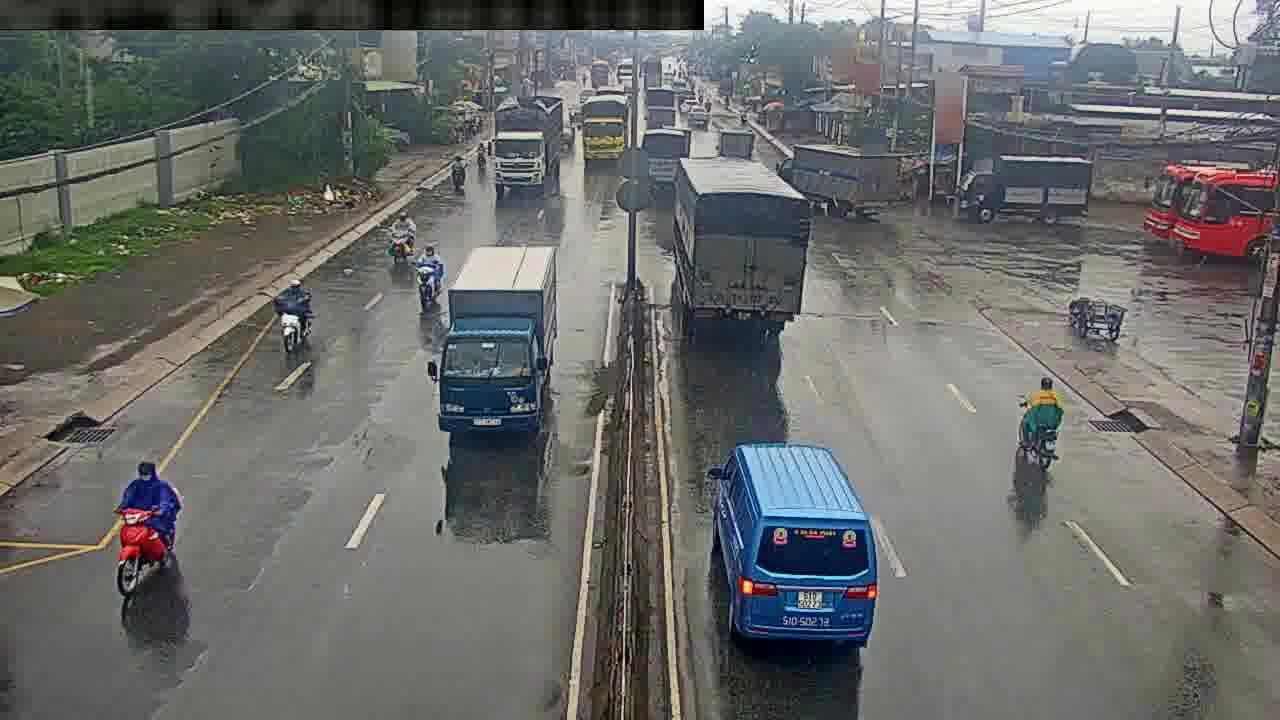8: (671, 160, 805, 332), (437, 246, 556, 426), (776, 144, 900, 222), (491, 95, 554, 193), (579, 96, 629, 165), (642, 135, 685, 189)
container: (718, 445, 872, 647)
motorbike: (116, 463, 179, 602), (1019, 374, 1061, 471), (278, 269, 316, 359), (416, 247, 442, 315), (385, 212, 411, 273), (446, 150, 466, 193)
